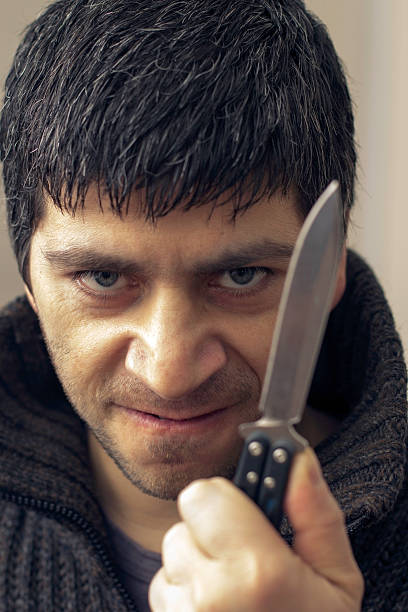knife: (233, 179, 345, 532)
